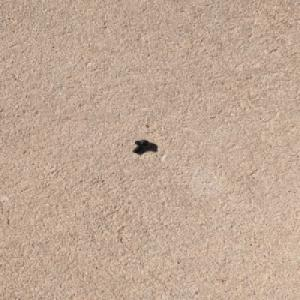BoltWasher: (131, 139, 152, 153)
